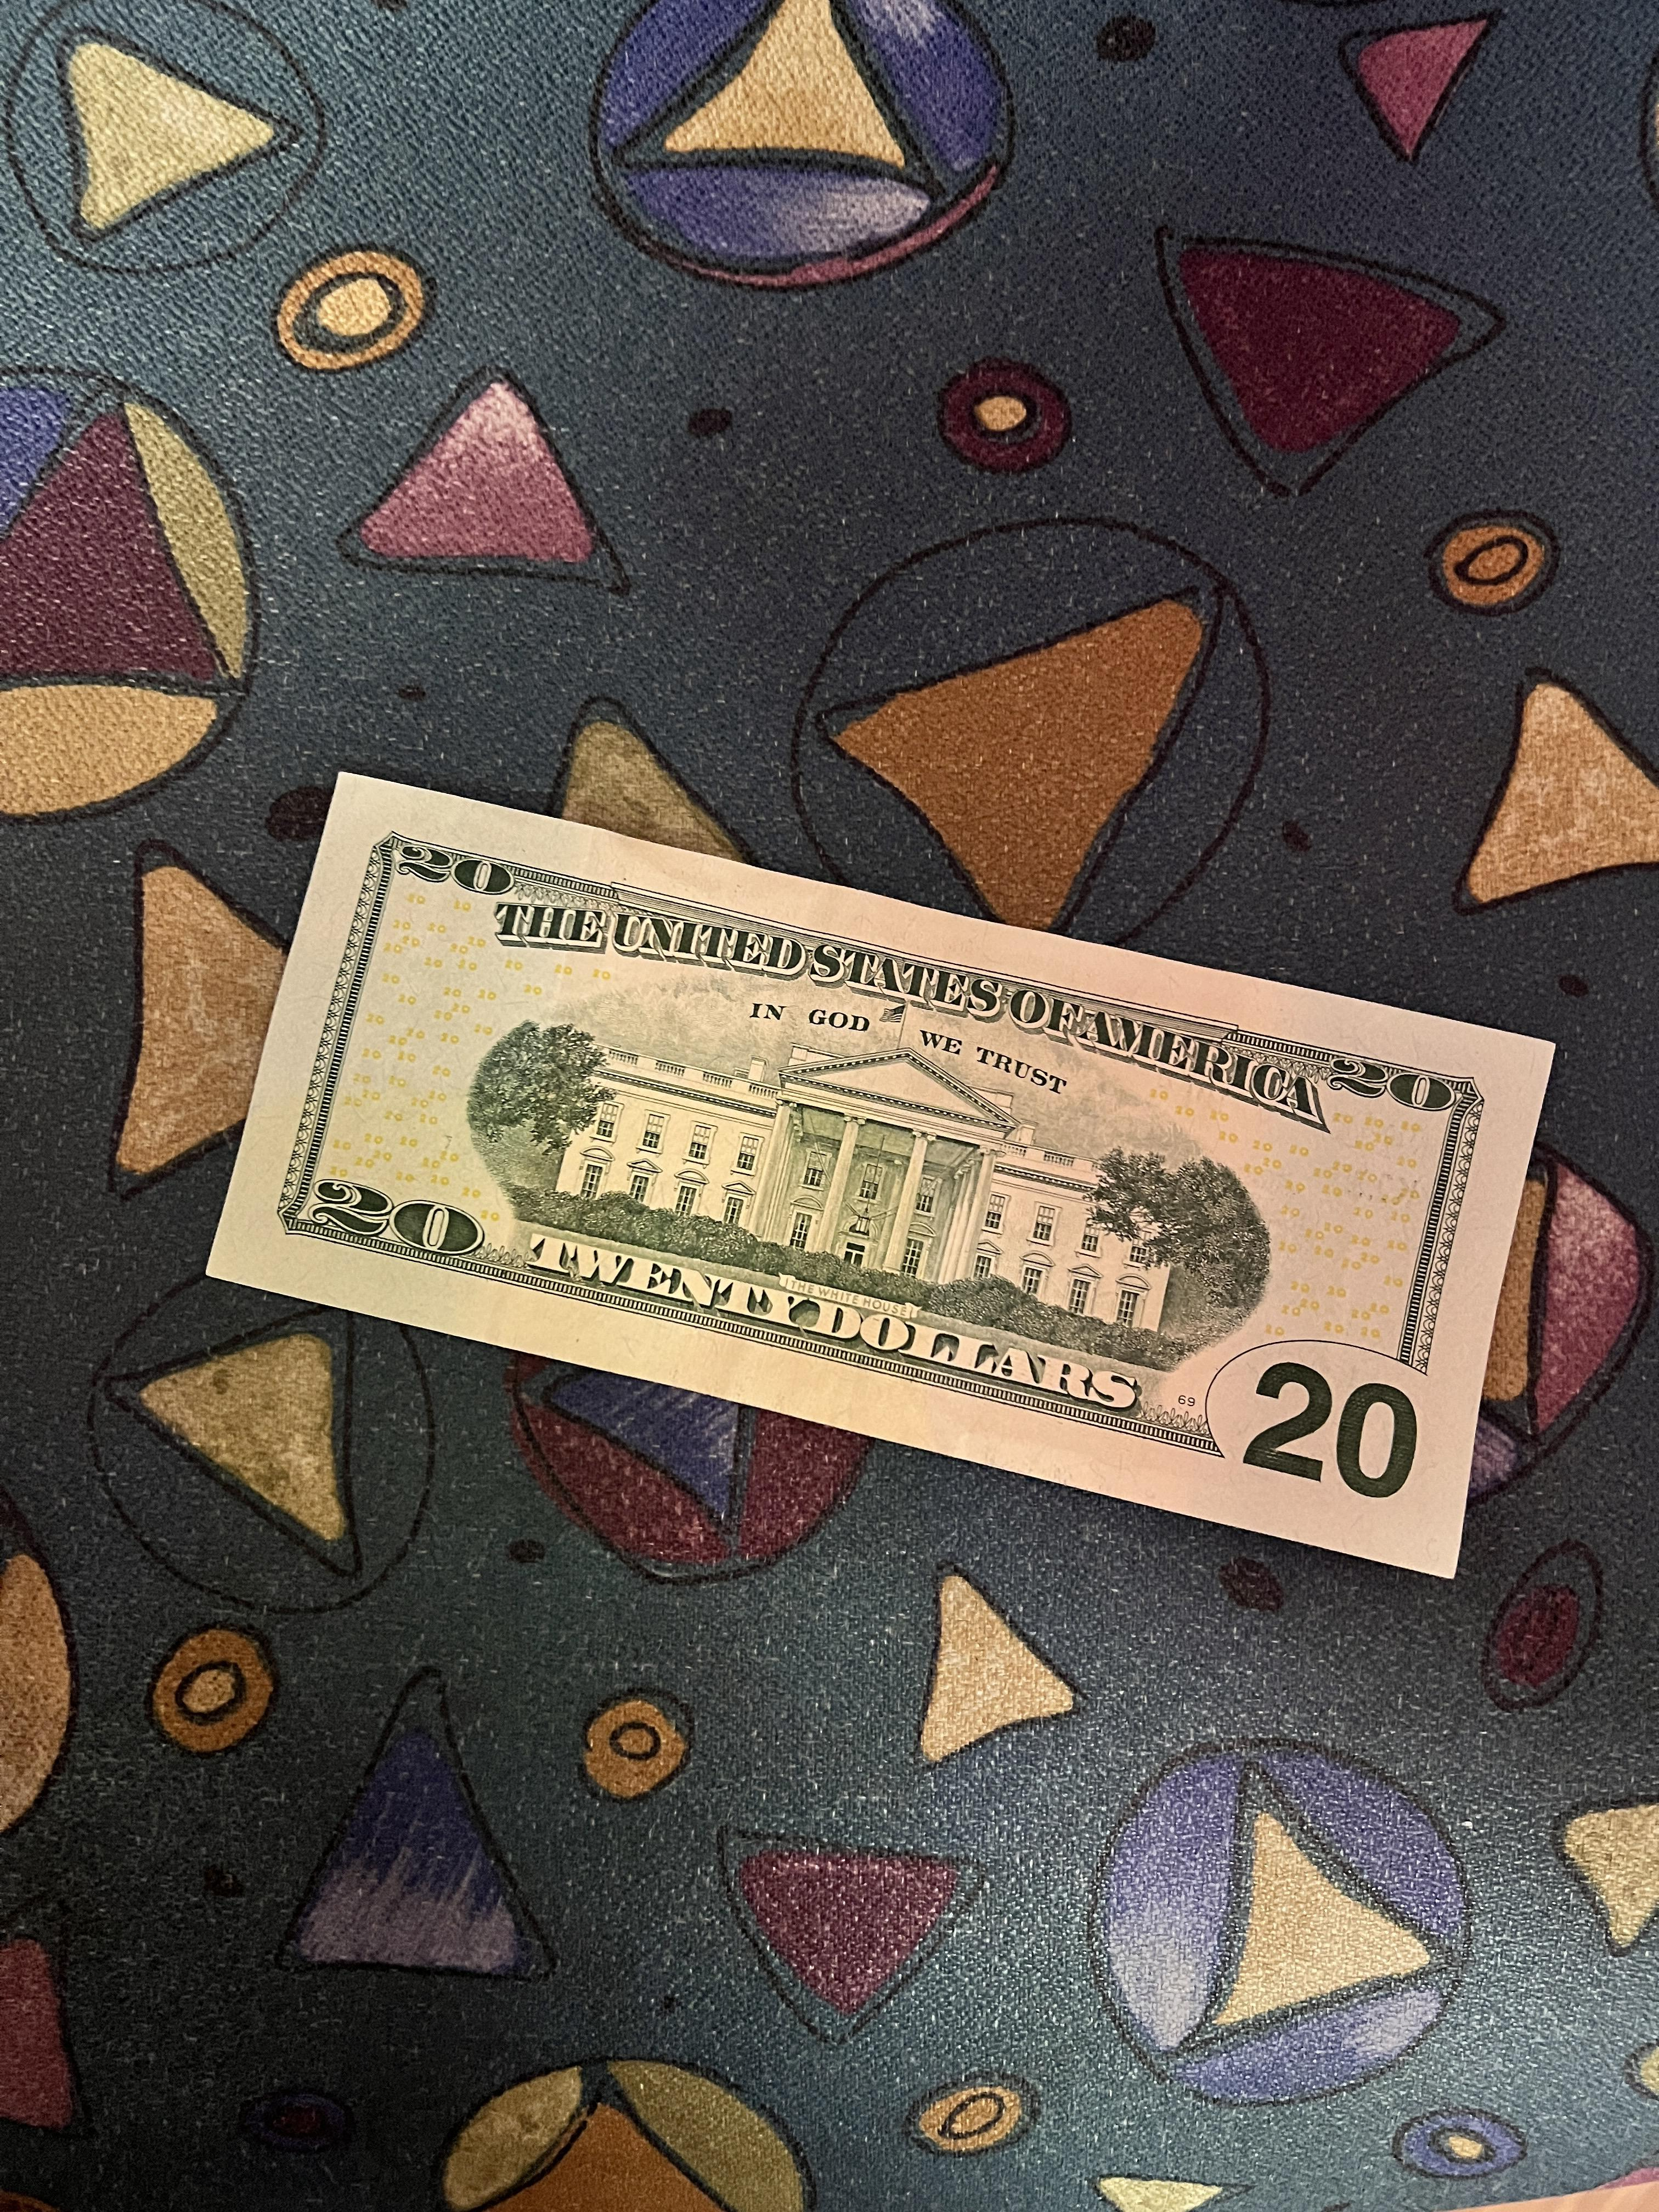TwentyBill: (202, 759, 1556, 1609)
